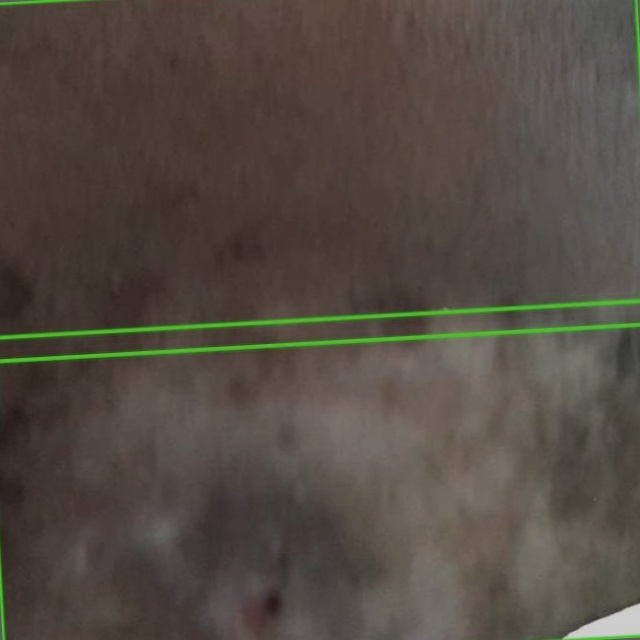Contact Dermatitis: (0, 0, 639, 361), (0, 301, 639, 639)
